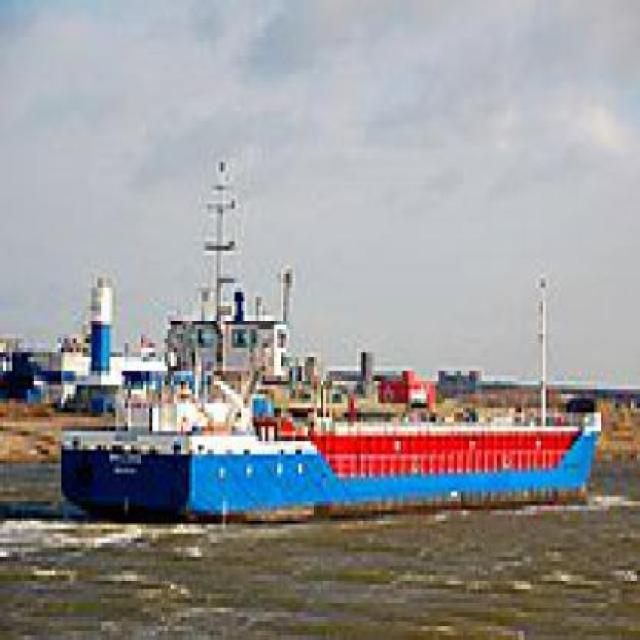container: (50, 177, 607, 539)
